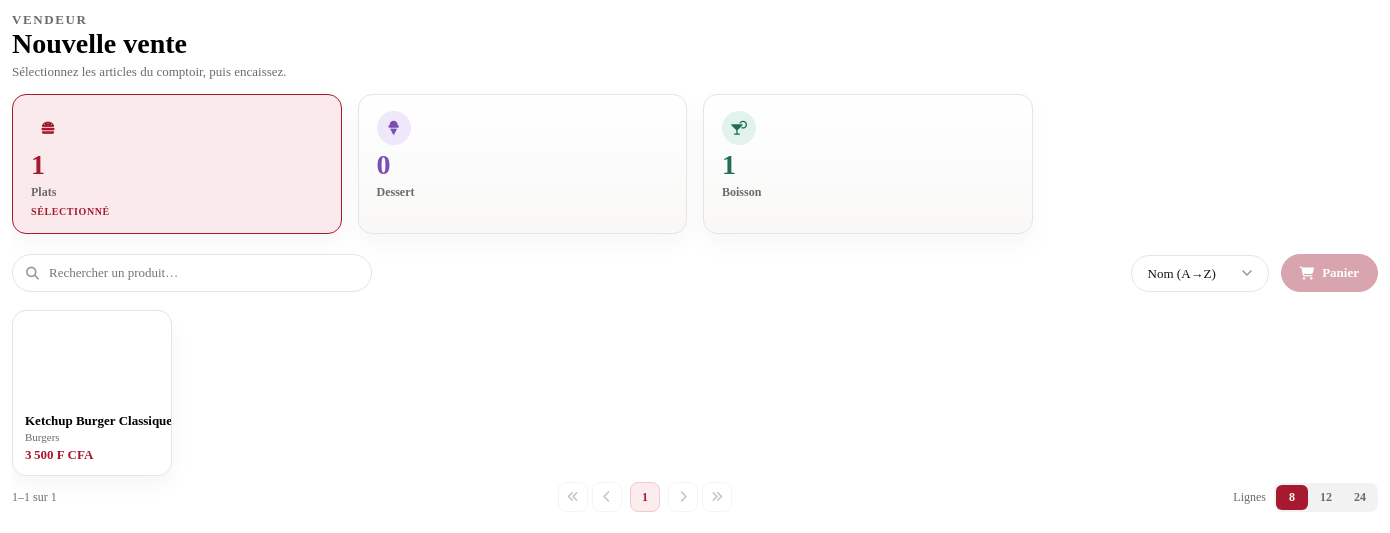
it: Vente (caisse Vendeur) › ouvre une page complète (pas un modal) avec nom, prix unitaire, image et bouton Accompagnement pour un produit éligible
Click the text "Ketchup Burger Classique" at (99, 421), box [25, 413, 172, 429]
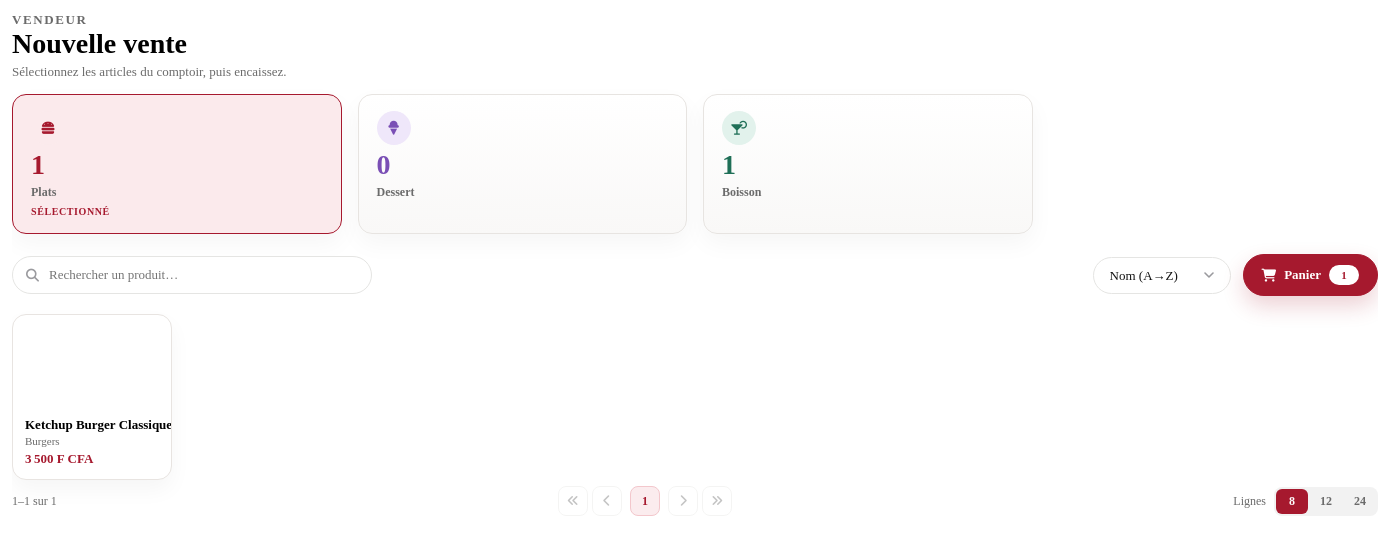
Click the button with aria-label "Ouvrir le panier" at (1310, 275), box [1242, 254, 1378, 296]
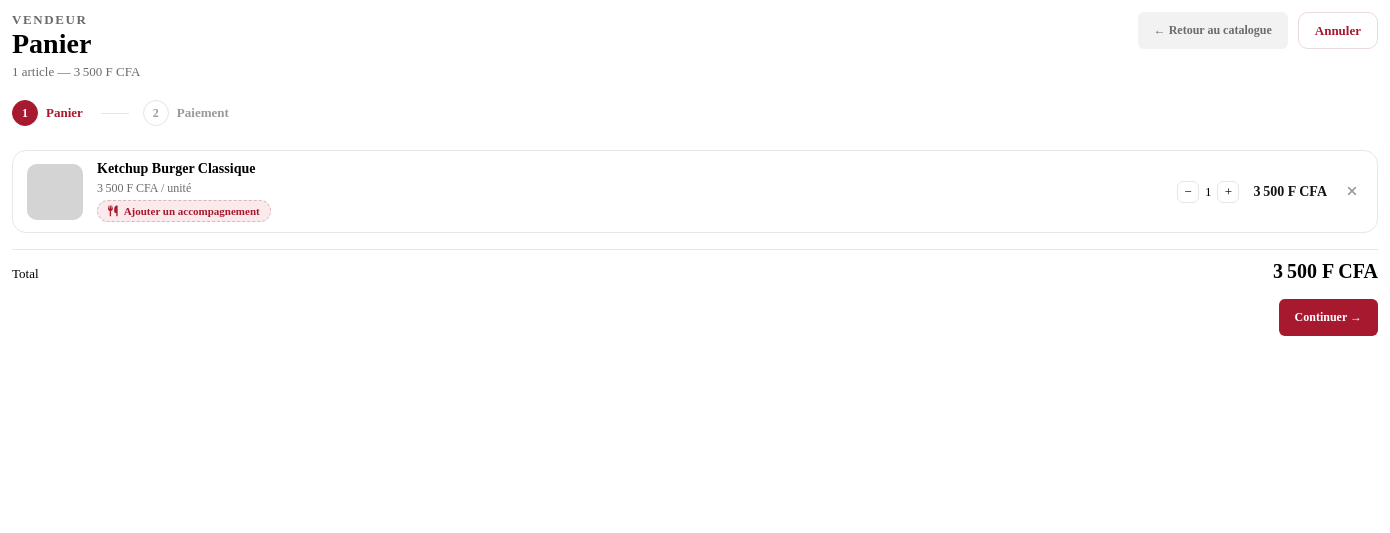
Expected: the text "Ketchup Burger Classique" is shown, [97, 161, 255, 176]
Now the heading "Panier" is shown, box [12, 28, 91, 59]
Now the button "Ajouter un accompagnement" is shown, box [97, 200, 271, 222]
